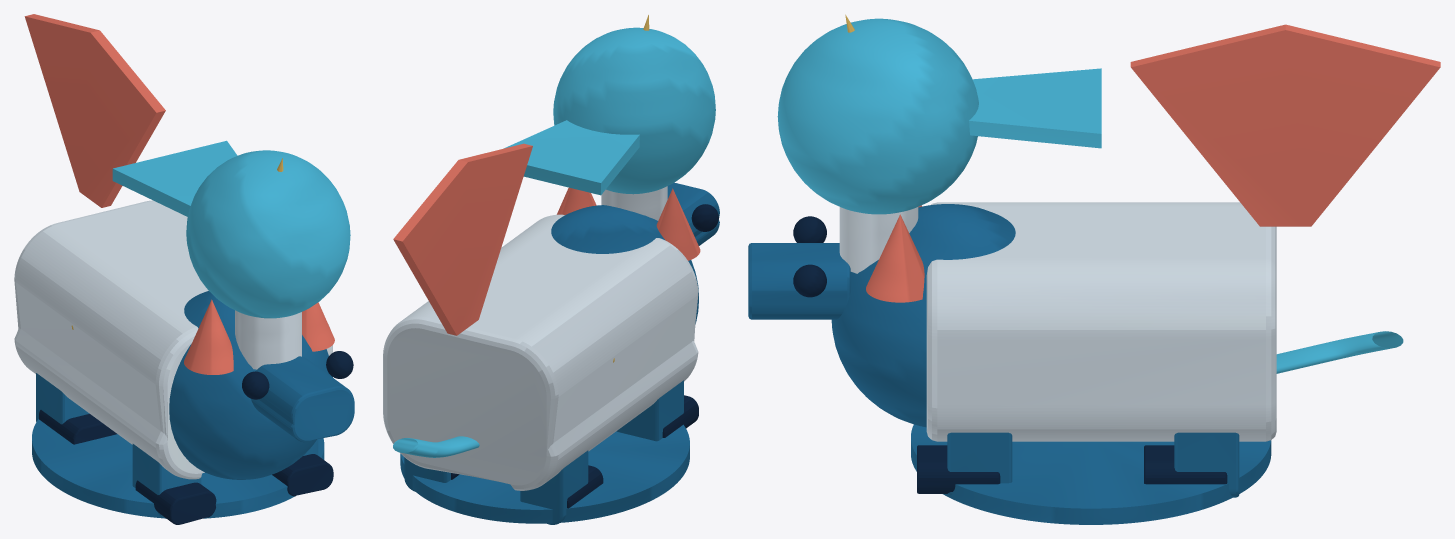
Rendered from 0140_海洋动物图鉴_鲸鲨.glb.
3 views of the same model, side by side, from view 1: azimuth 30°, elevation 25°; view 2: azimuth 150°, elevation 25°; view 3: azimuth 270°, elevation 25° (orthographic). The views are drawn at different scales.
Parts seen in each view (by area): view 1: card_0140; view 2: card_0140; view 3: card_0140.
Part boxes in pixels (box(x1,y1,x2,y2)): card_0140: box(14, 14, 354, 524); card_0140: box(383, 15, 719, 524); card_0140: box(748, 14, 1440, 524).
Bounding box in the file's own units: 0.6901 × 1 × 1.42.
